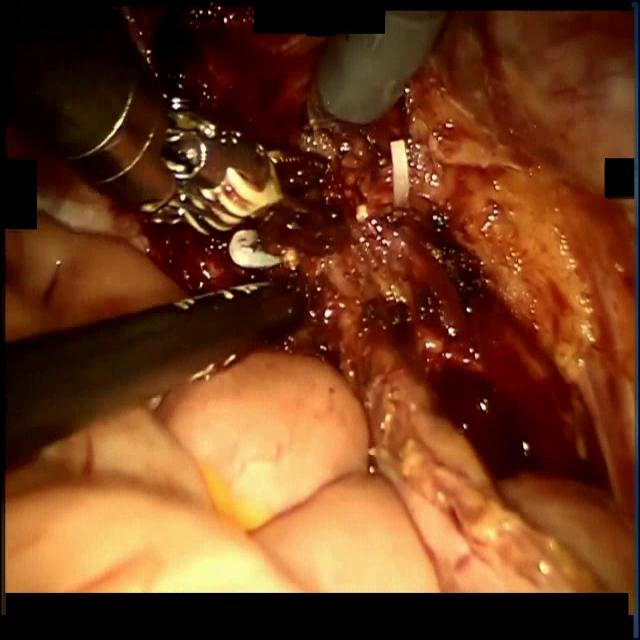surgical-area: (0, 3, 634, 593)
surgical-tool: (28, 4, 325, 238), (0, 272, 308, 456), (316, 7, 448, 122)
